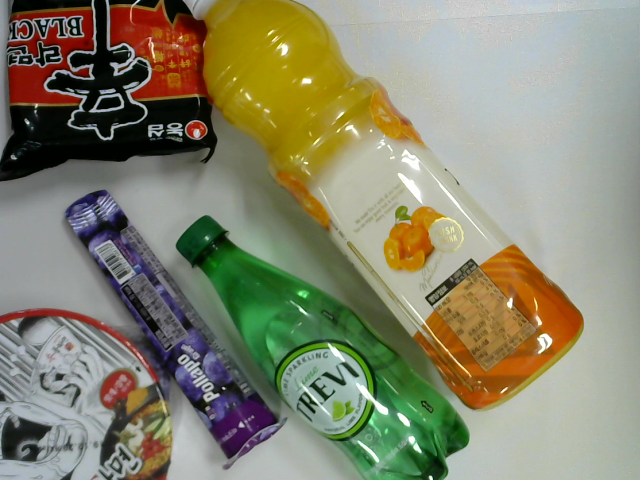Hejangpul: (1, 300, 187, 478)
Jeju_Tangerine_1.5L: (191, 1, 588, 415)
Polapo_Grape: (60, 185, 293, 468)
Sinramen_Black: (2, 1, 228, 189)
Treviraim_500ml: (170, 210, 473, 480)
